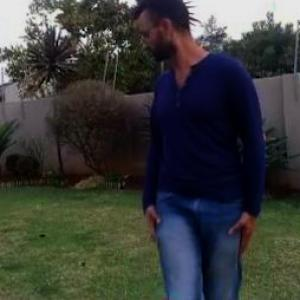follow: (136, 0, 267, 299)
